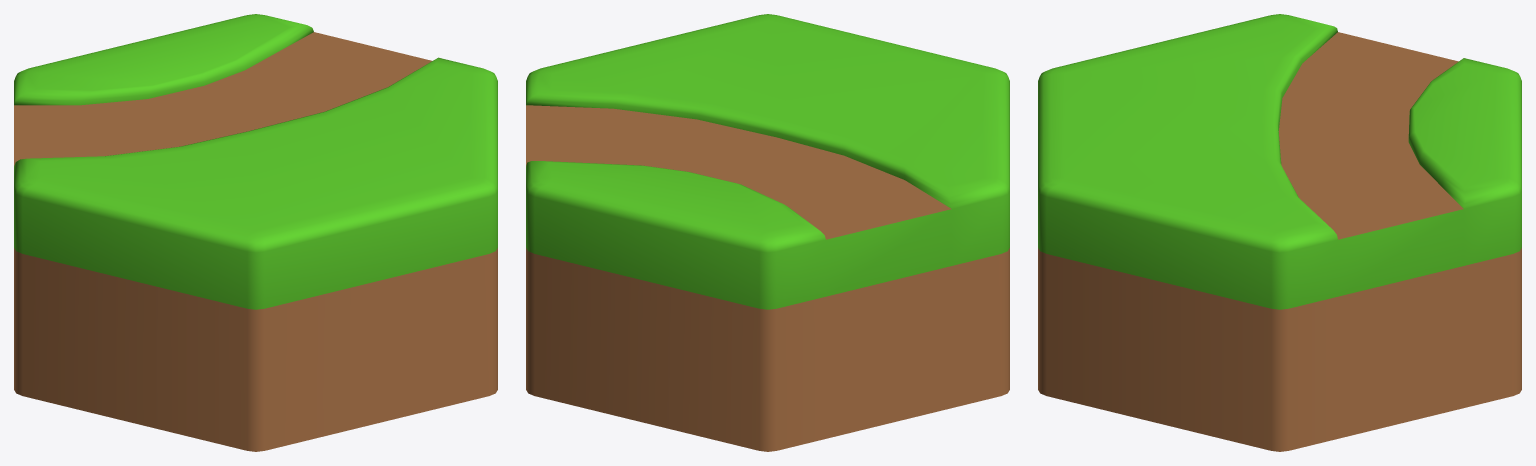
Rendered from Tile_Green_Path_01_Turn_L.fbx.
3 views of the same model, side by side, from view 1: azimuth 30°, elevation 25°; view 2: azimuth 150°, elevation 25°; view 3: azimuth 270°, elevation 25° (orthographic).
Parts seen in each view (by area): view 1: Tile_Green_Path_01_Turn_L; view 2: Tile_Green_Path_01_Turn_L; view 3: Tile_Green_Path_01_Turn_L.
Boxes of the visible parts, x1=… form: Tile_Green_Path_01_Turn_L: x1=14, y1=14, x2=497, y2=451; Tile_Green_Path_01_Turn_L: x1=526, y1=14, x2=1009, y2=451; Tile_Green_Path_01_Turn_L: x1=1038, y1=14, x2=1521, y2=451.
Size of the model in its own units: 9302 by 3880 by 8129.
